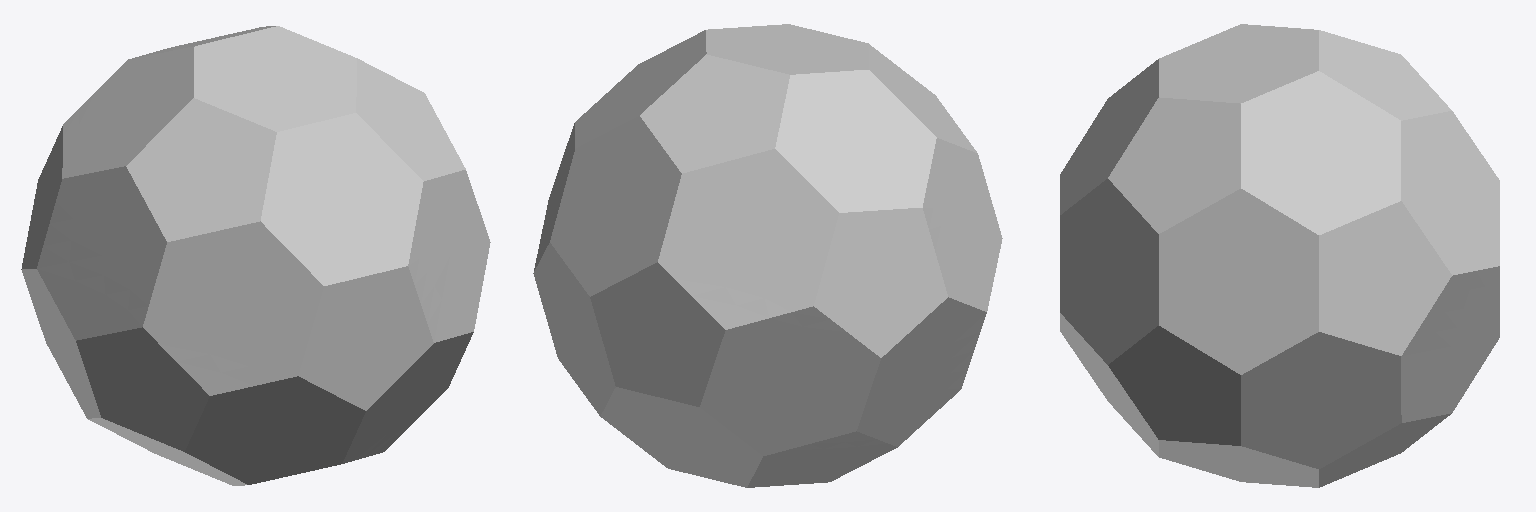
File: ball.obj
3 views of the same model, side by side, from view 1: azimuth 30°, elevation 25°; view 2: azimuth 150°, elevation 25°; view 3: azimuth 270°, elevation 25° (orthographic).
Parts seen in each view (by area): view 1: Platonic; view 2: Platonic; view 3: Platonic.
Boxes of the visible parts, x1,y1,x2,y2 form: Platonic: [21, 26, 490, 485]; Platonic: [533, 24, 1002, 487]; Platonic: [1060, 24, 1499, 487].
Bounding box in the file's own units: 578 × 568 × 552.